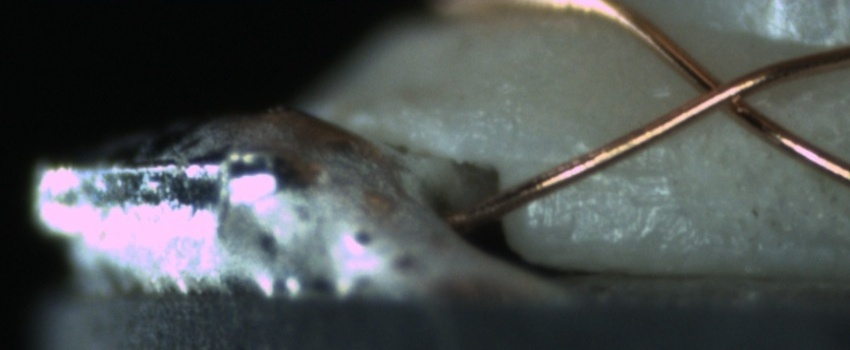CL: (677, 60, 767, 124)
DL: (525, 138, 671, 196)
